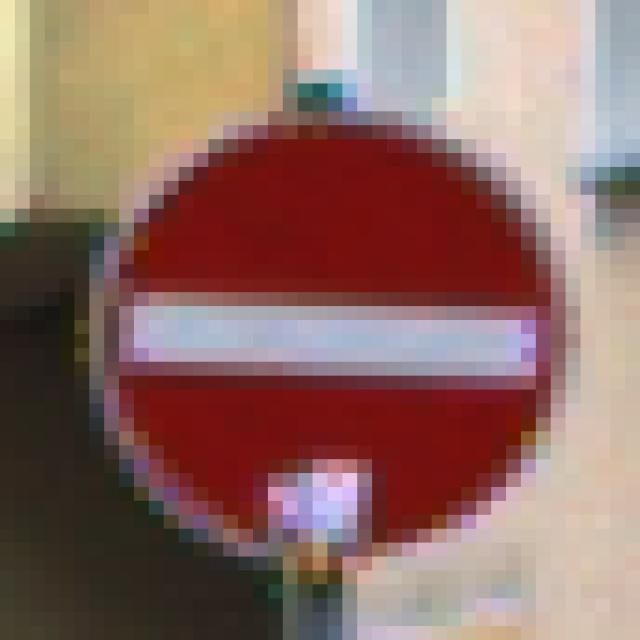No Entry: (90, 85, 567, 572)
